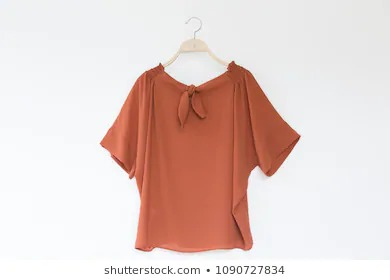C_blouse: (109, 58, 298, 250)
